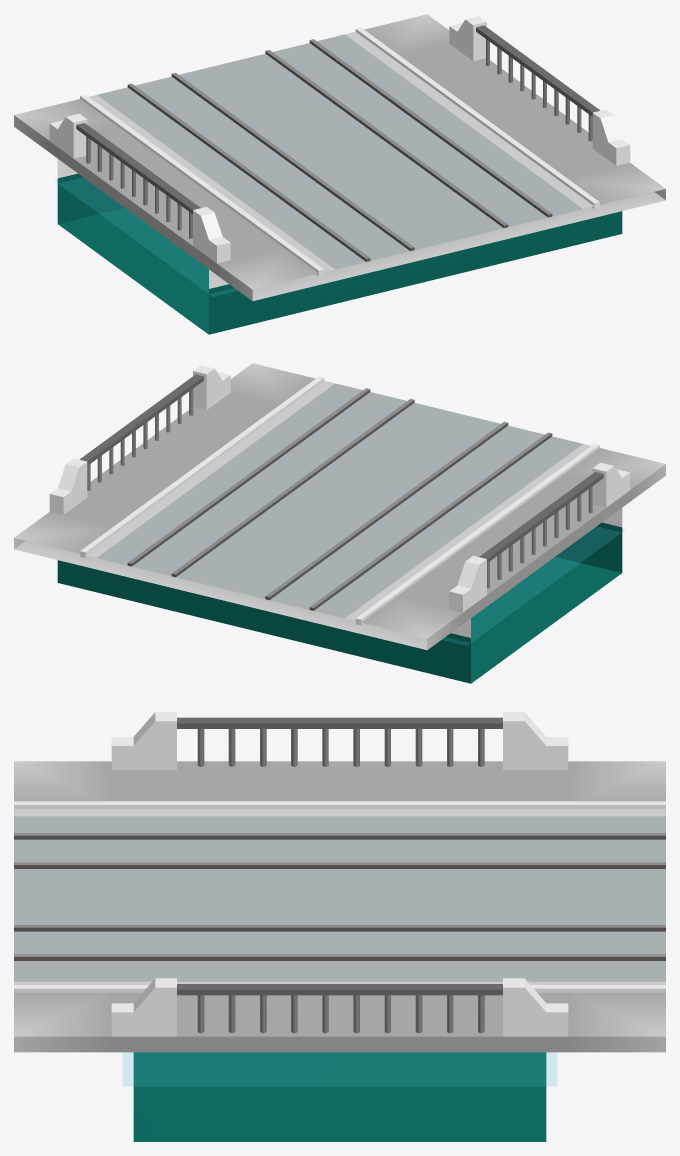
The model's file is tram_railway_008.glb.
3 renders of one model, top to bottom at view 1: azimuth 30°, elevation 25°; view 2: azimuth 150°, elevation 25°; view 3: azimuth 270°, elevation 25°, orthographic. The views are drawn at different scales.
Parts seen in each view (by area): view 1: tram_railway_008; view 2: tram_railway_008; view 3: tram_railway_008.
Part boxes in pixels (x1,y1,x2,y2): tram_railway_008: [14, 14, 665, 334]; tram_railway_008: [14, 363, 665, 683]; tram_railway_008: [14, 712, 665, 1141].
Bounding box in the file's own units: 15 × 3.92 × 15.
Materials: 2 (2 with a texture image).
